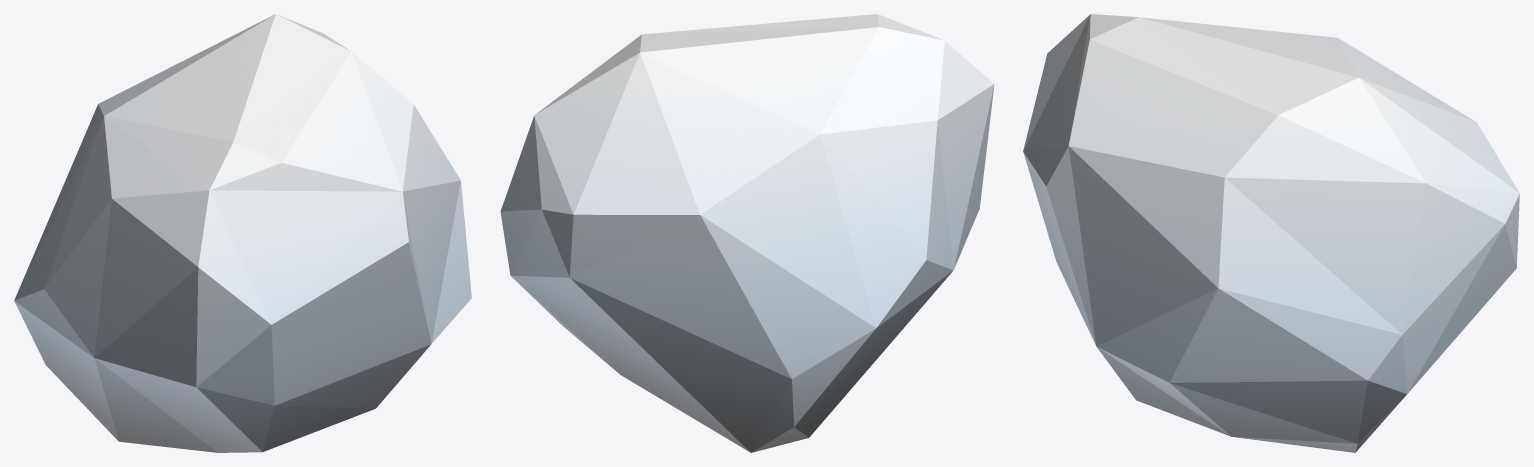
The model's file is Snowy_Stone_003.FBX.
3 views of the same model, side by side, from view 1: azimuth 30°, elevation 25°; view 2: azimuth 150°, elevation 25°; view 3: azimuth 270°, elevation 25° (orthographic). The views are drawn at different scales.
Visible parts, largest first — view 1: Snowy_Stone_003; view 2: Snowy_Stone_003; view 3: Snowy_Stone_003.
Part boxes in pixels (<box>): Snowy_Stone_003: <box>14,14,471,452</box>; Snowy_Stone_003: <box>500,14,994,452</box>; Snowy_Stone_003: <box>1023,14,1519,452</box>.
Bounding box in the file's own units: 103 × 92.32 × 105.
Materials: 1 (1 with a texture image).
